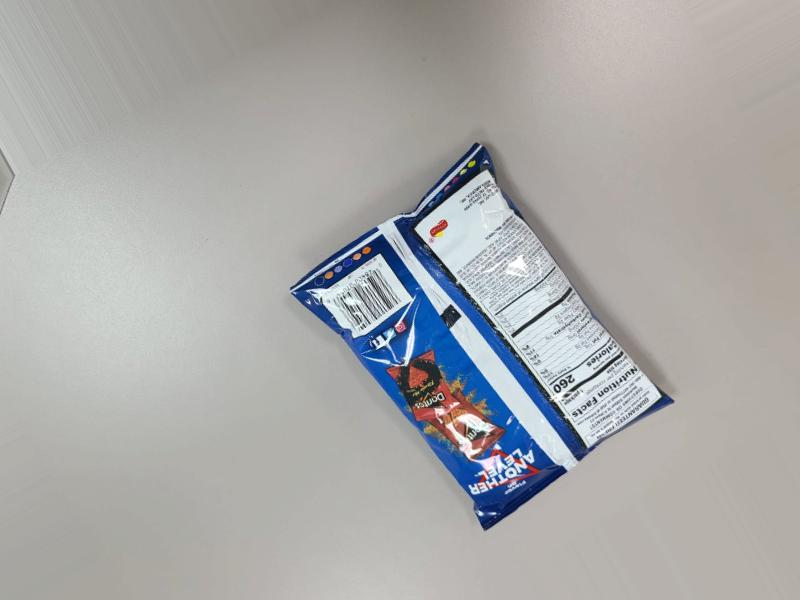doritos: (295, 124, 674, 540)
